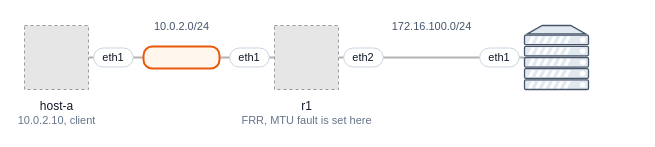
This 655x147 diagram has some shape labels left out. Grey dashed boxes stand in for pictures. The centre of each missing label's shape, as x and y in pixels:
capture: pixel 181 57
host-b 172.16.100.20, test server + DNS: pixel 556 57
